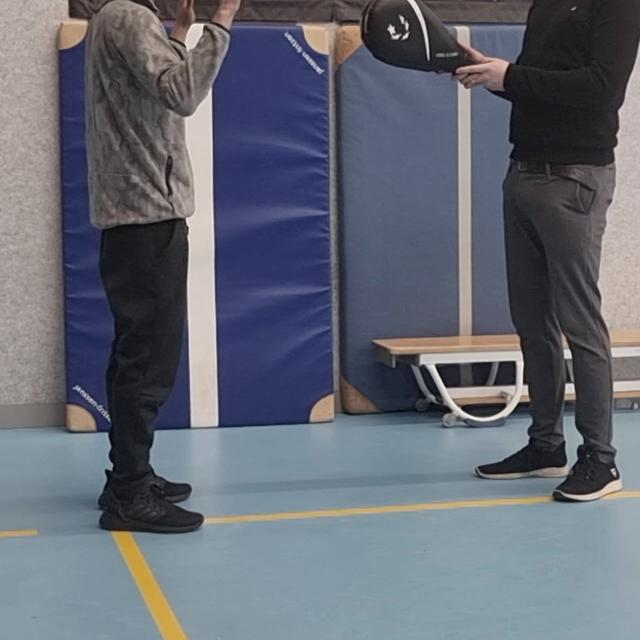paddle: (360, 0, 479, 74)
